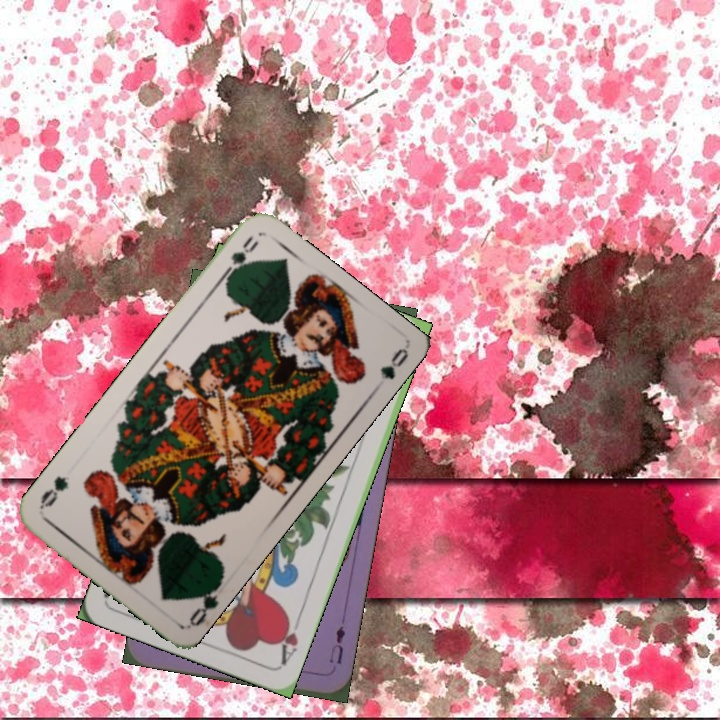EU: (324, 621, 348, 667)
GO: (217, 232, 261, 285), (185, 575, 226, 629)
HA: (273, 610, 304, 668)
